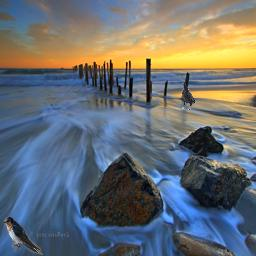Crow: (182, 82, 195, 110)
Swallow: (3, 217, 43, 255)
